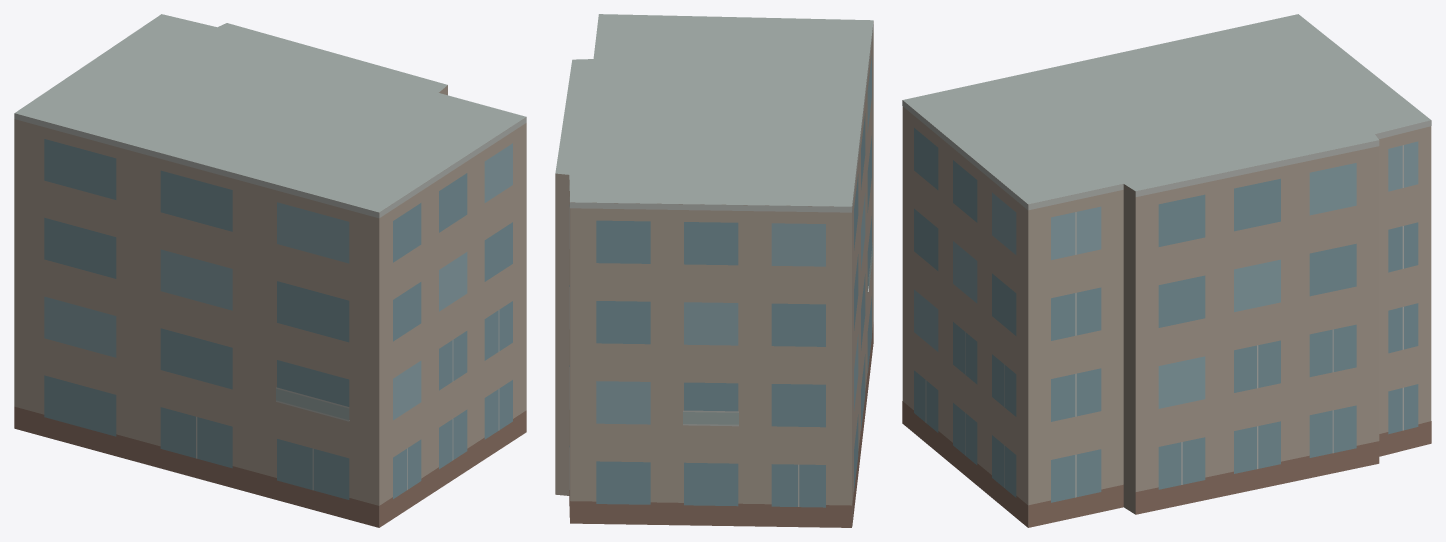
File: survey-upis-32803949.glb
3 views of the same model, side by side, from view 1: azimuth 30°, elevation 25°; view 2: azimuth 150°, elevation 25°; view 3: azimuth 270°, elevation 25° (orthographic). The views are drawn at different scales.
Parts seen in each view (by area): view 1: survey-upis-32803949.tmp; view 2: survey-upis-32803949.tmp; view 3: survey-upis-32803949.tmp.
Part boxes in pixels (x1,y1,x2,y2): survey-upis-32803949.tmp: [14, 14, 526, 527]; survey-upis-32803949.tmp: [555, 14, 873, 527]; survey-upis-32803949.tmp: [902, 14, 1431, 527].
Size of the model in its own units: 16.67 by 13.2 by 19.57.
